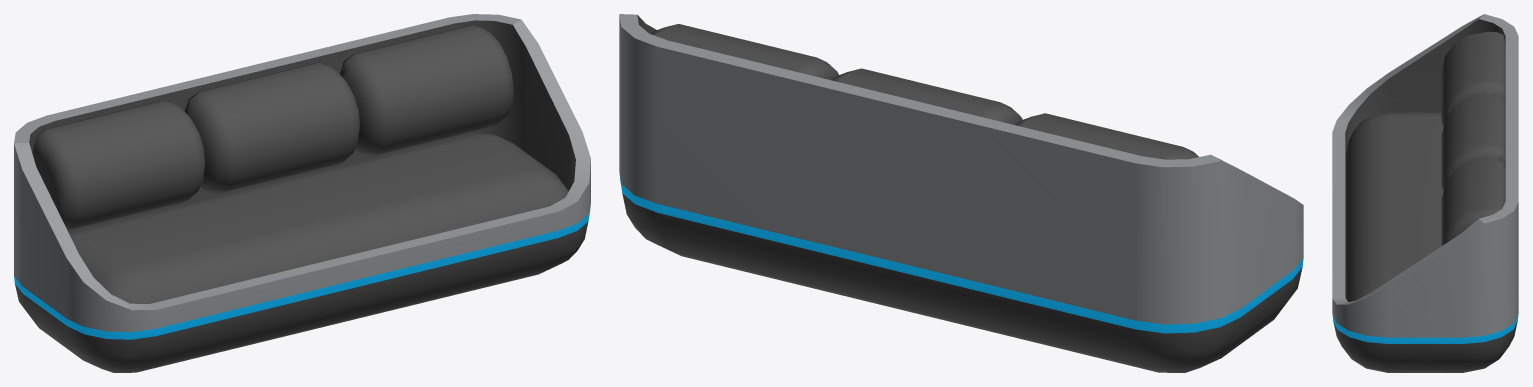
File: Sofa_002.glb
3 renders of one model, left to right at view 1: azimuth 30°, elevation 25°; view 2: azimuth 150°, elevation 25°; view 3: azimuth 270°, elevation 25°, orthographic. The views are drawn at different scales.
Visible parts, largest first — view 1: Sofa_002; view 2: Sofa_002; view 3: Sofa_002.
Boxes of the visible parts, x1,y1,x2,y2 form: Sofa_002: [14, 14, 590, 372]; Sofa_002: [619, 14, 1303, 372]; Sofa_002: [1332, 14, 1518, 372].
Size of the model in its own units: 2.32 by 0.8432 by 0.8572.
Materials: 2 (2 with a texture image).
